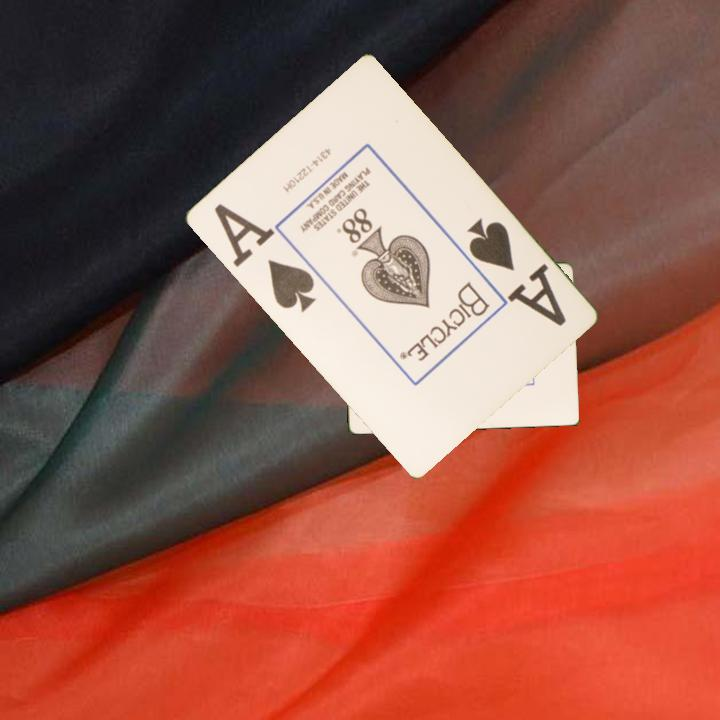As: (463, 214, 569, 330), (220, 211, 318, 316)
